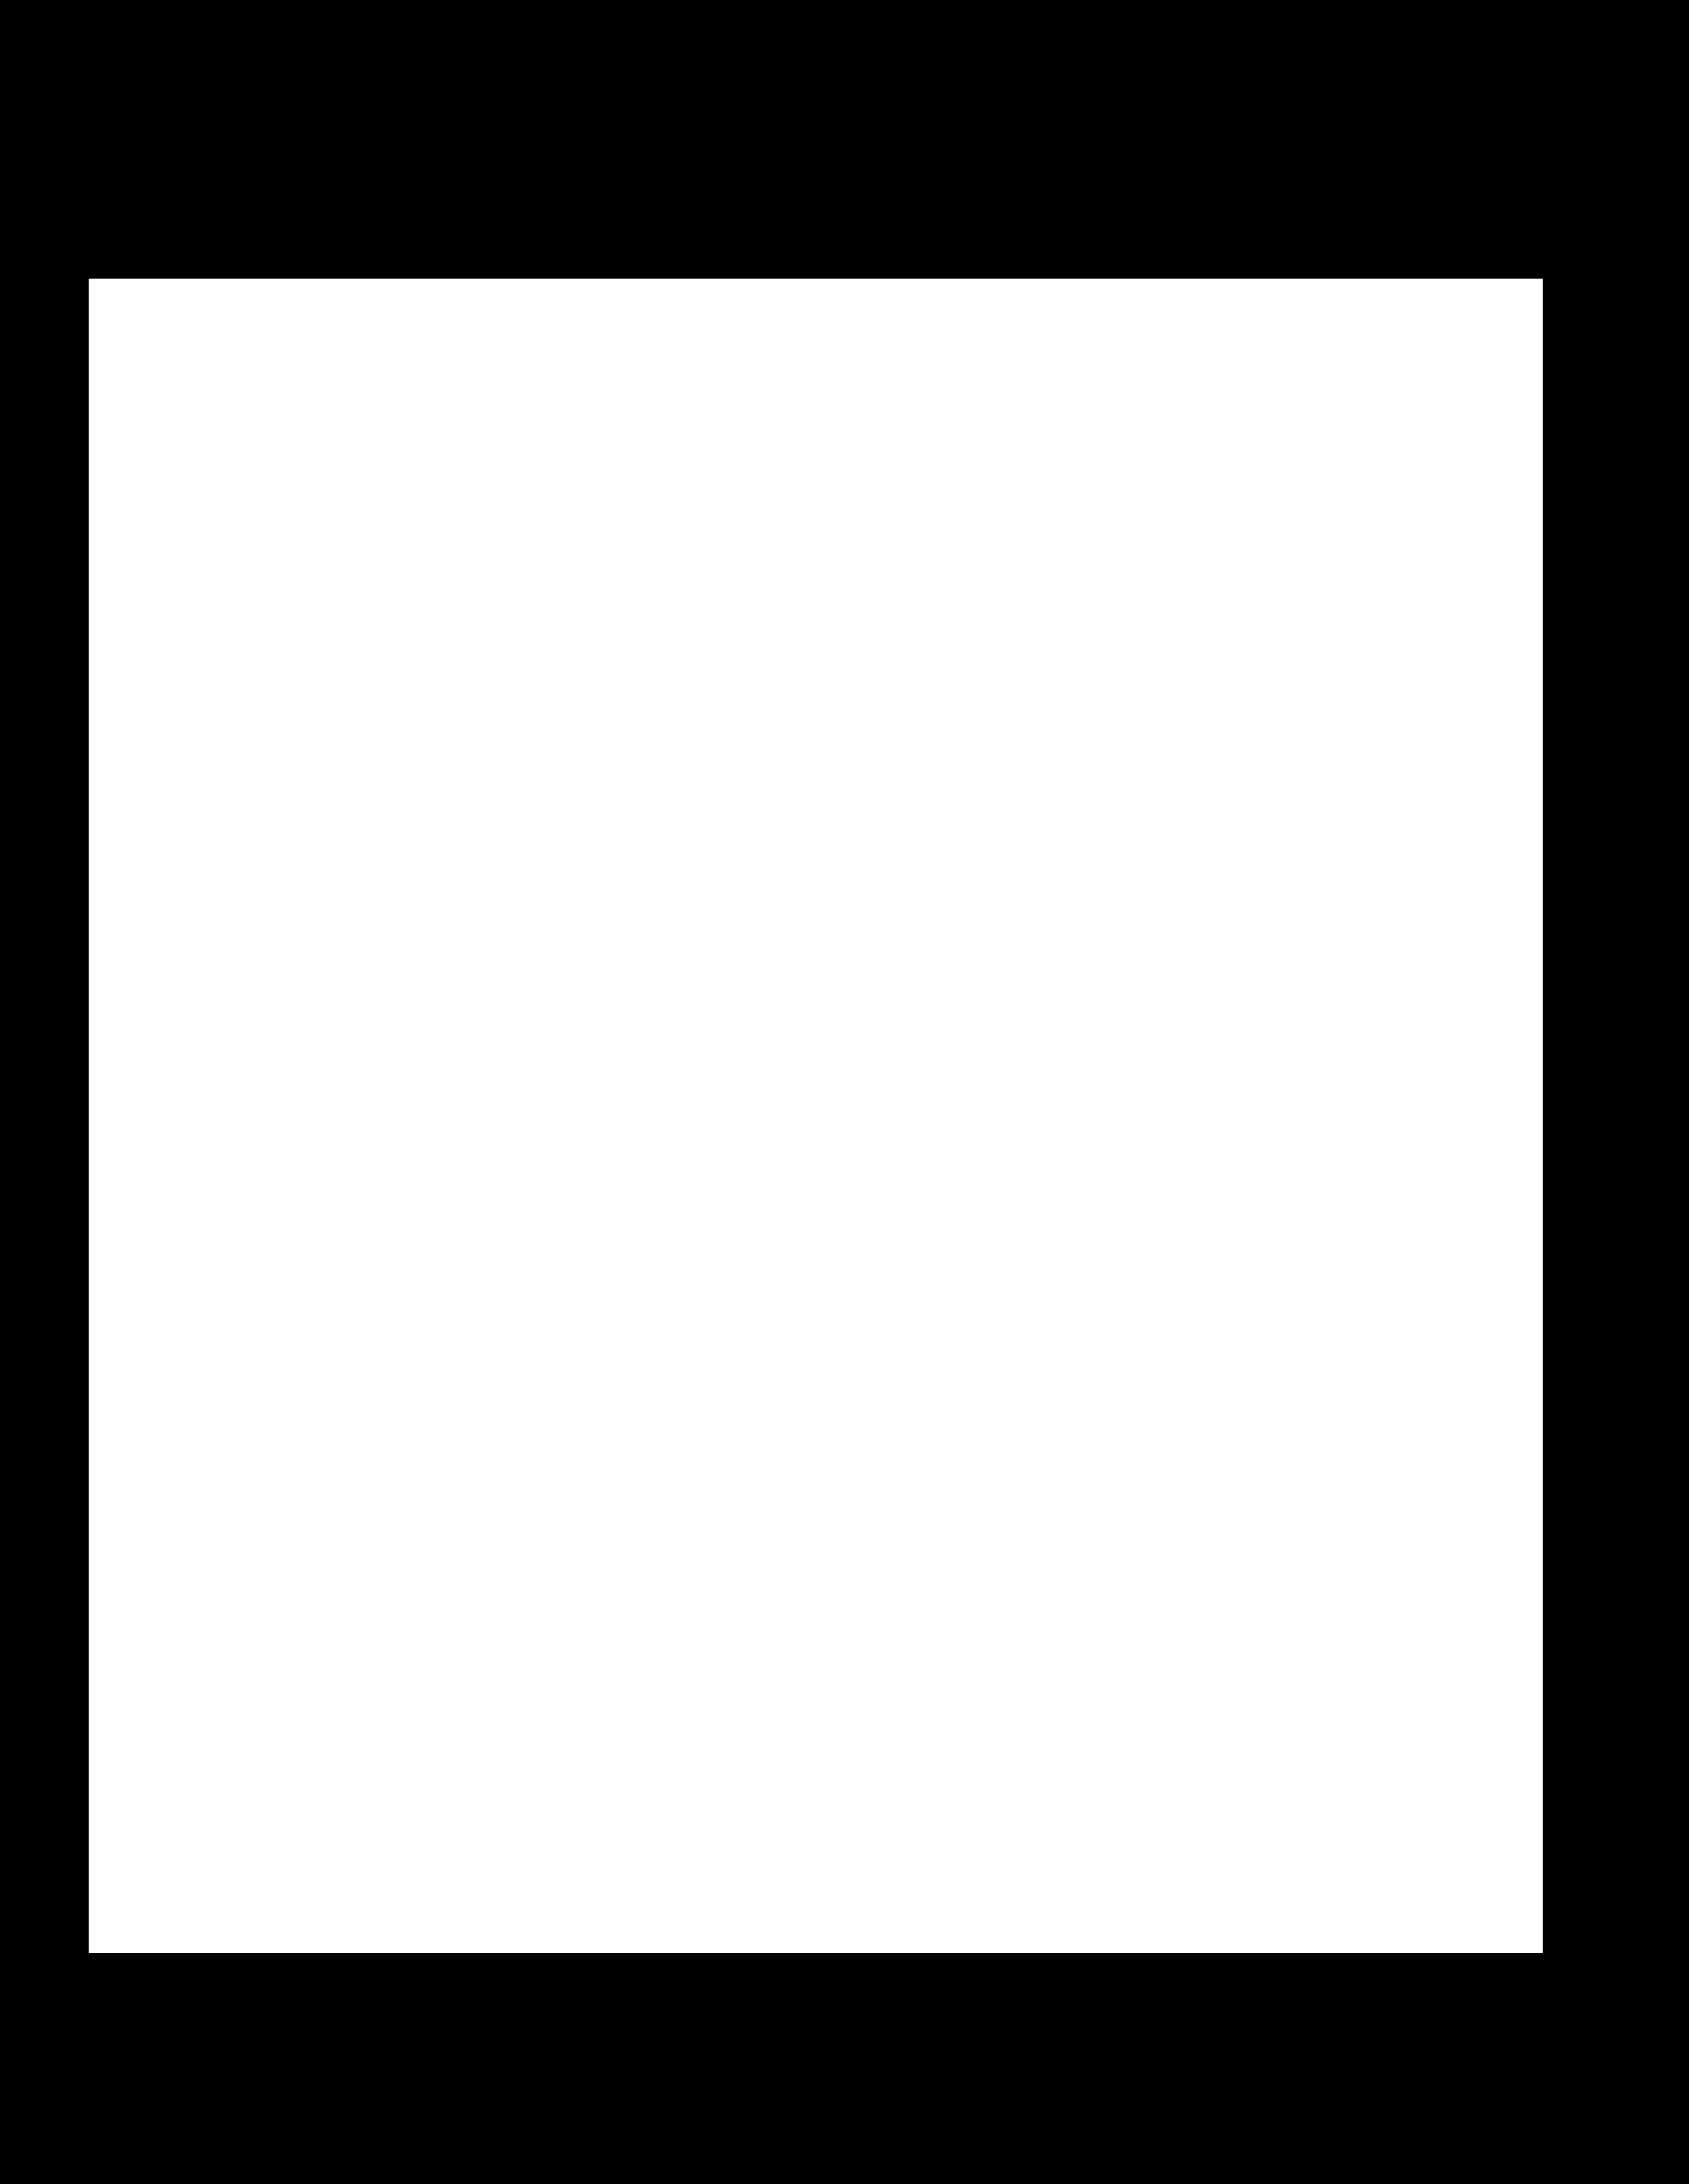table: (89, 278, 1542, 1952)
